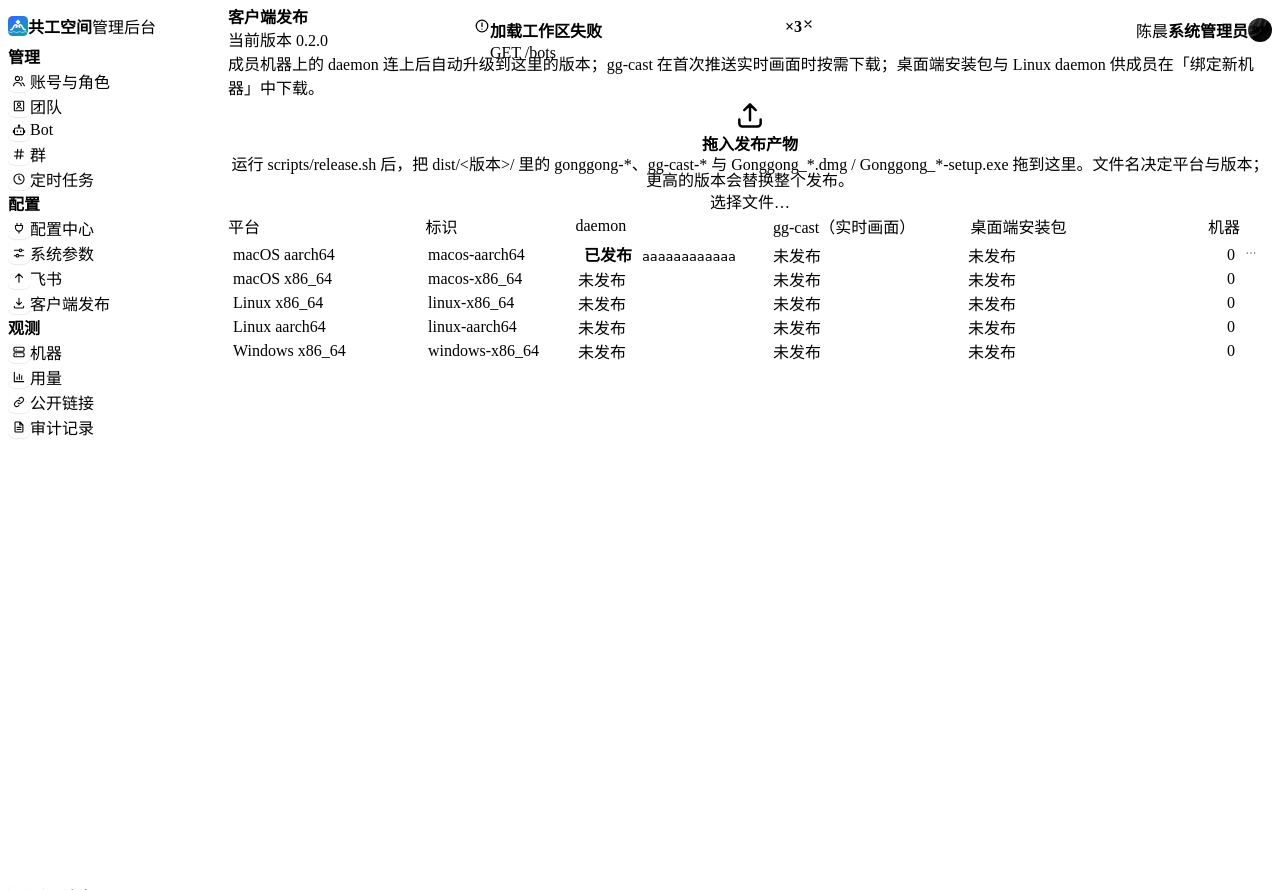
Test case: 管理后台 · 客户端发布 › removes one platform build after confirming
The image size is (1280, 890).
Expected: the cell "macos-aarch64" is shown, left=428, top=246, right=525, bottom=263
Click the button named "操作". click: (1251, 253)
box: left=1244, top=246, right=1258, bottom=260
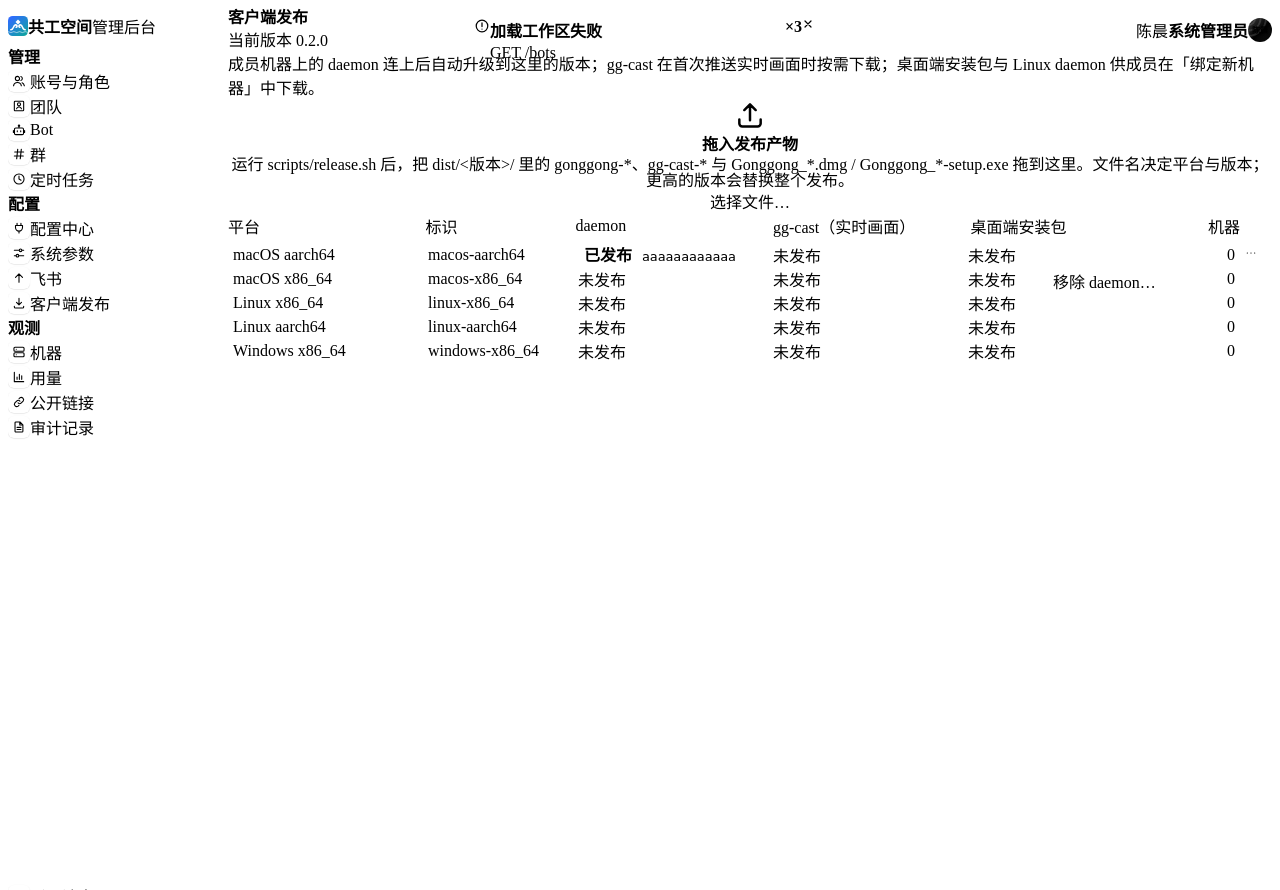
Click the menu item "移除 daemon…". click: (1153, 281)
box: left=1053, top=269, right=1253, bottom=293
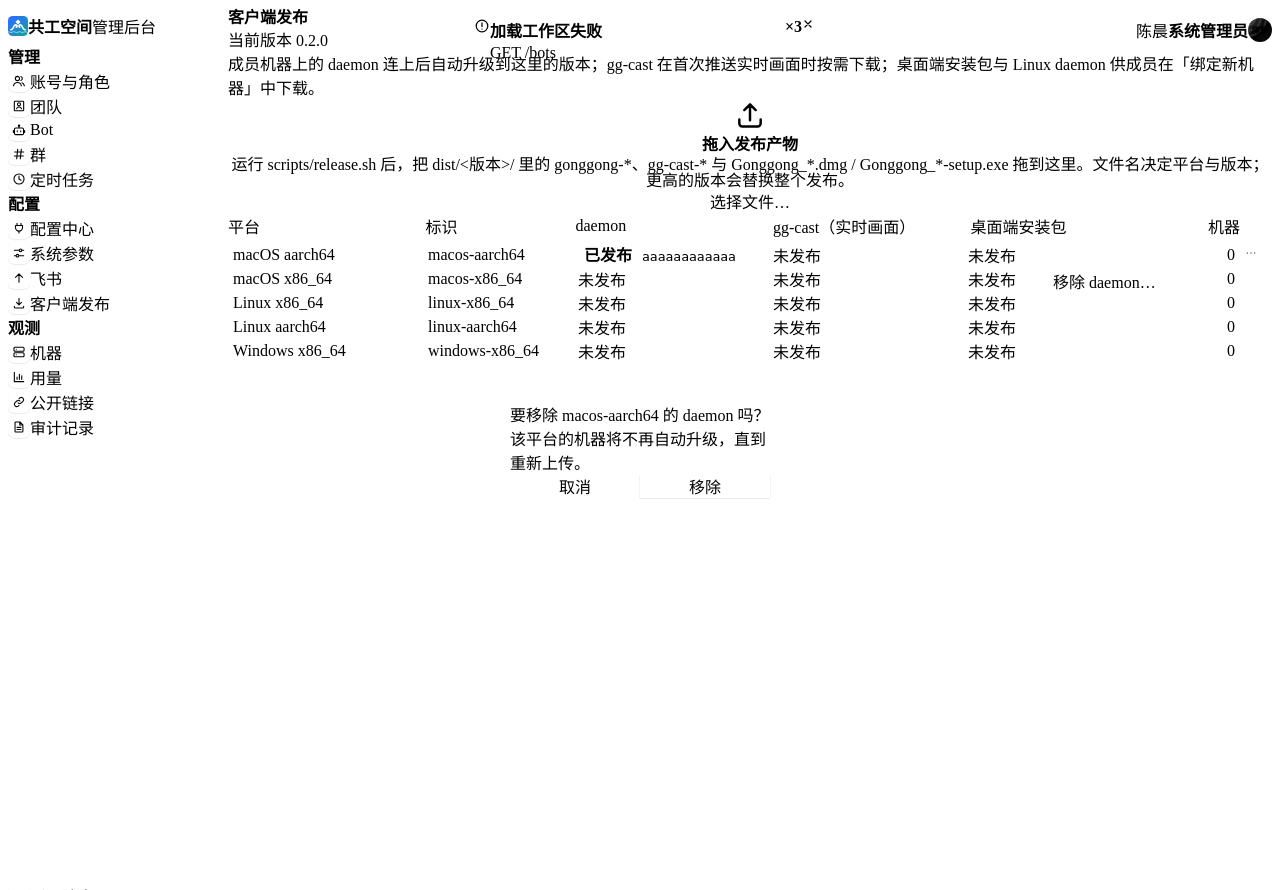
Click the button "移除". click: (705, 486)
box: left=640, top=474, right=770, bottom=498
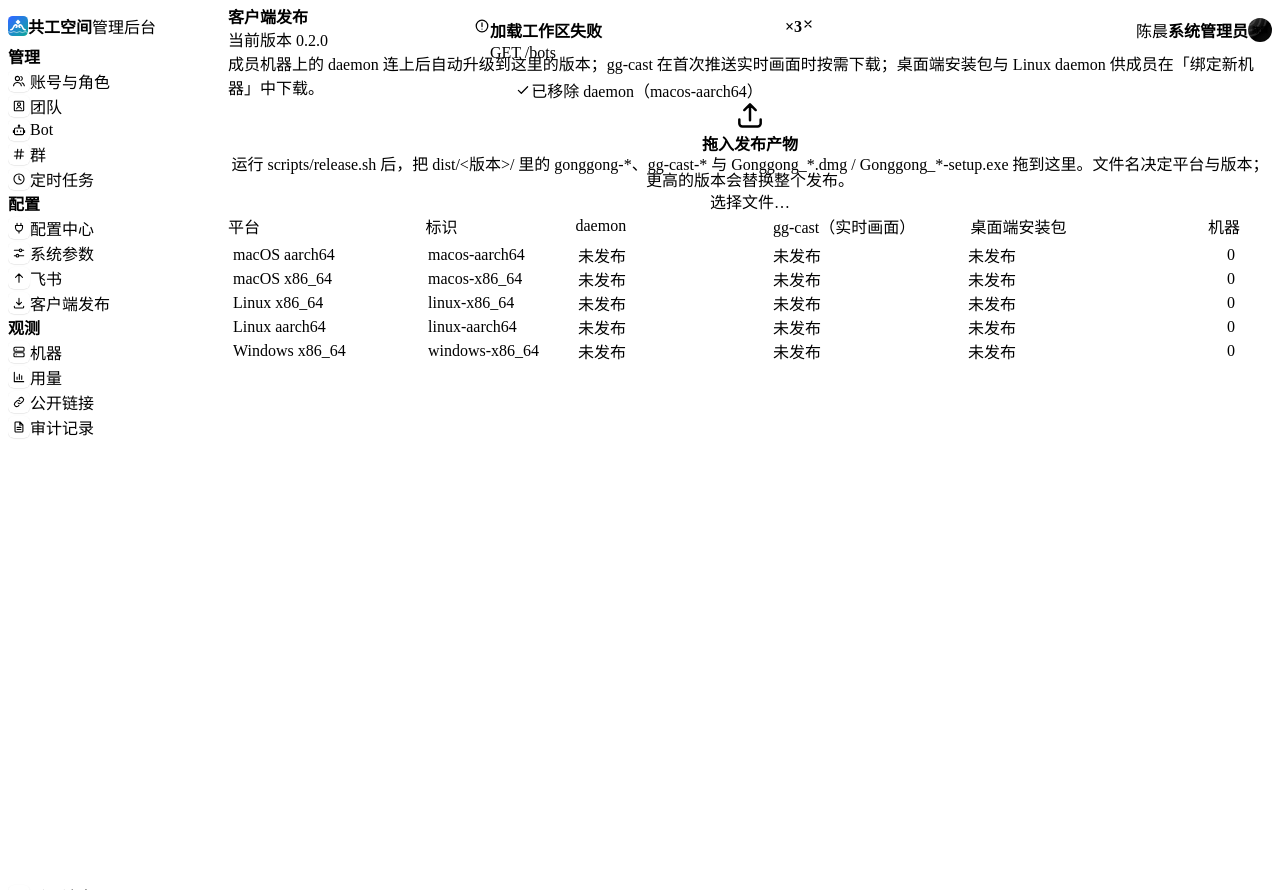
Expected: the 1st text "未发布" is shown, left=578, top=243, right=626, bottom=267
